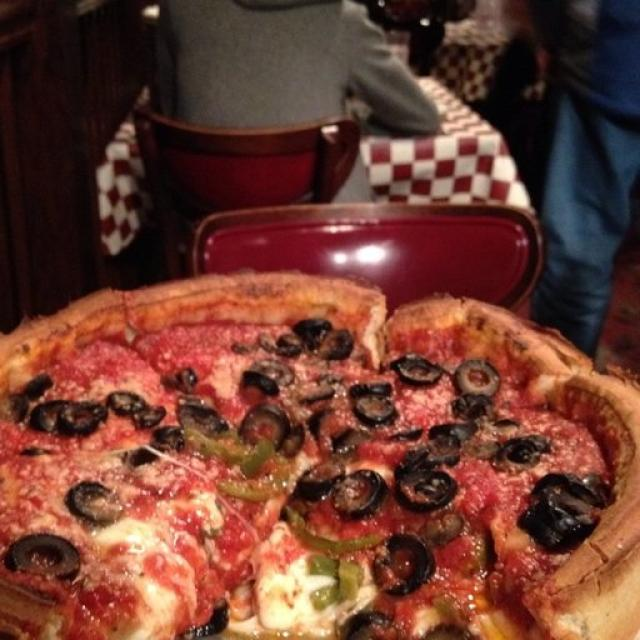Green Pepper: (291, 516, 376, 551), (308, 559, 361, 603), (202, 443, 276, 471), (226, 474, 284, 499)
Olives: (538, 475, 605, 537), (302, 464, 383, 512), (235, 404, 303, 458), (12, 536, 78, 576), (377, 536, 427, 588), (238, 360, 296, 396), (396, 446, 459, 479), (36, 396, 84, 439), (303, 319, 352, 359), (70, 477, 114, 521), (114, 390, 162, 424), (178, 398, 223, 434), (348, 380, 390, 418), (494, 436, 548, 464), (457, 361, 500, 393), (398, 351, 439, 381), (412, 475, 447, 506), (453, 396, 498, 420), (431, 420, 478, 442), (325, 432, 362, 458), (310, 374, 340, 406), (259, 337, 303, 358), (145, 428, 188, 446), (306, 408, 332, 430), (24, 375, 49, 395), (0, 394, 25, 414), (123, 452, 158, 465), (176, 370, 196, 385)
Pizza: (1, 274, 640, 640)
